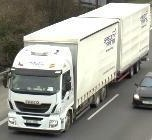truck: (8, 5, 148, 132)
